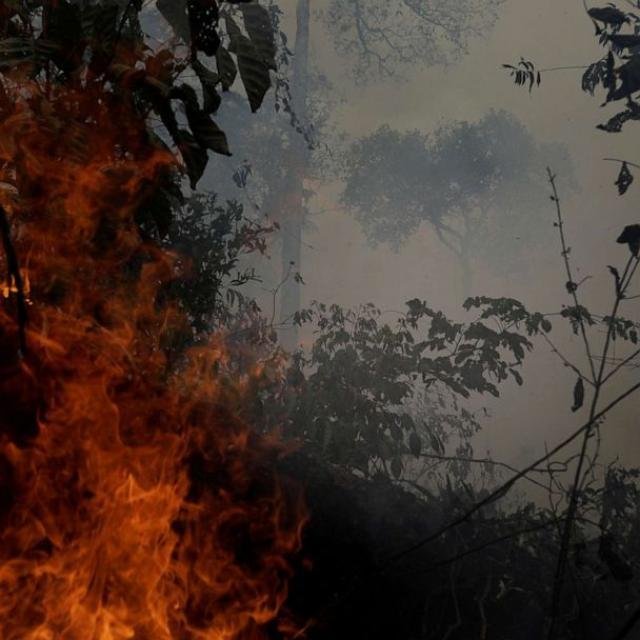Fire: (2, 355, 316, 639), (0, 26, 251, 355)
Smoke: (270, 164, 640, 332), (270, 0, 640, 164), (396, 337, 638, 525)
